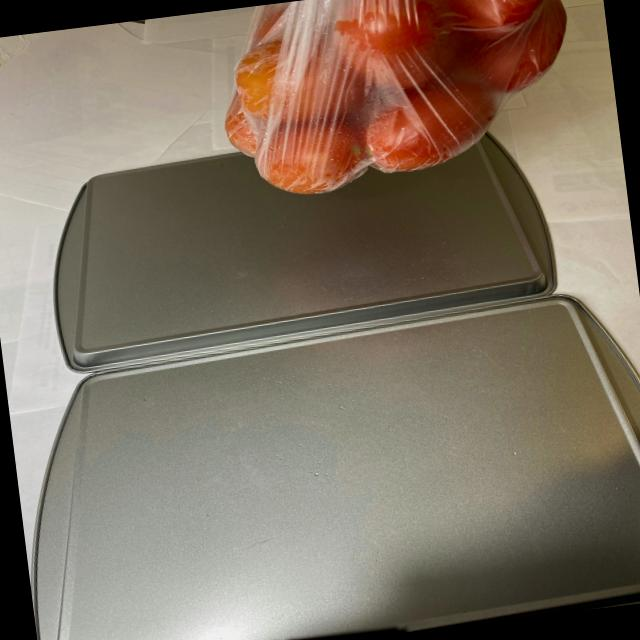tomato: (210, 0, 587, 206)
